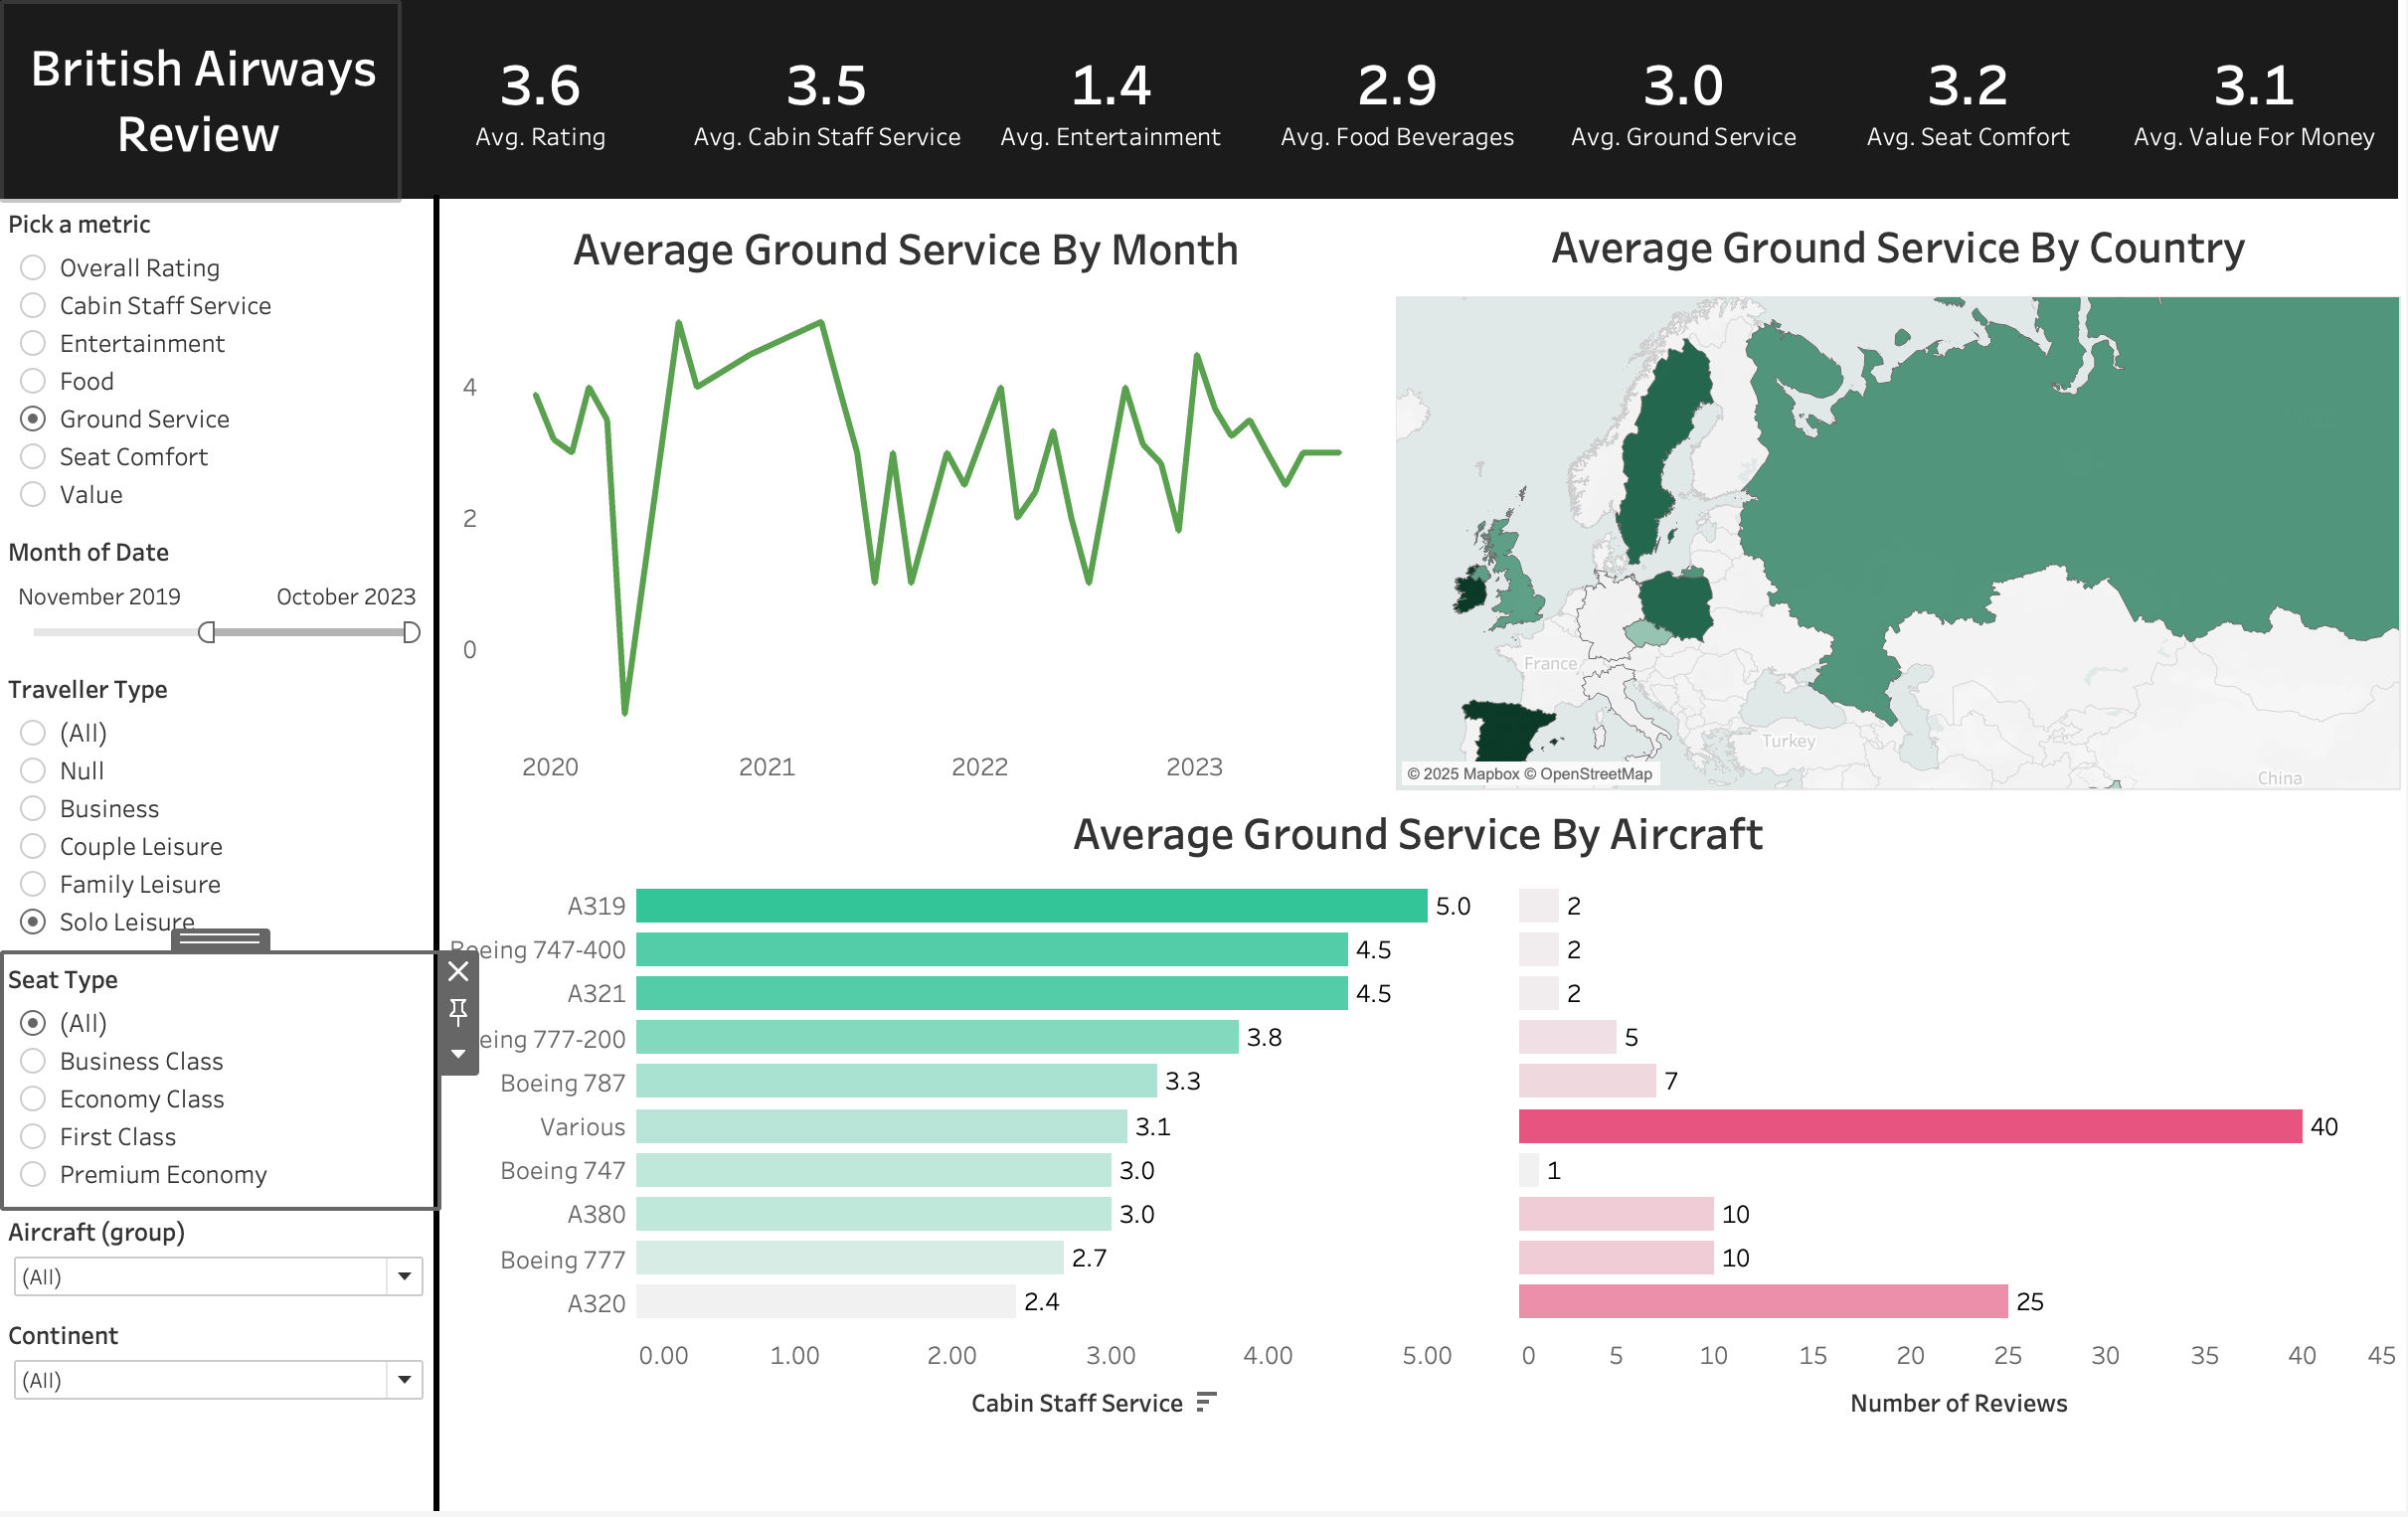

The page's visual inventory and layout, read from the dashboard file:
{"tool":"tableau","page":{"name":"Dashboard 1","canvas":[1210,760],"ordinal":0},"visuals":[{"type":"blank","box":[0,0,1210,760]},{"type":"text","box":[0,0,200,100]},{"type":"worksheet","title":"Summary","mark":"Automatic","box":[200,0,1006,100]},{"type":"blank","box":[218,98,3,662]},{"type":"parameter","param":"[Parameters].[Parameter 1]","box":[0,100,220,165]},{"type":"worksheet","title":"Month","mark":"Automatic","rows":["Calculation_6134324971029123072"],"cols":["date"],"box":[210,103,478,294]},{"type":"worksheet","title":"Map","mark":"Automatic","box":[702,105,506,293]},{"type":"filter","title":"Map","param":"[federated.1n9n42414x436w0zvhl1x03048p7].[tmn:date:qk]","box":[0,265,220,69]},{"type":"filter","title":"Map","param":"[federated.1n9n42414x436w0zvhl1x03048p7].[none:traveller_type:nk]","box":[0,334,220,146]},{"type":"worksheet","title":"Aircraft","mark":"Automatic","cols":["Calculation_6134324971029123072","ba_reviews.csv_1D738989C7464307BE821A42023B778A"],"box":[220,400,987,321]},{"type":"filter","title":"Map","param":"[federated.1n9n42414x436w0zvhl1x03048p7].[none:seat_type:nk]","box":[0,480,220,127]},{"type":"filter","title":"Map","param":"[federated.1n9n42414x436w0zvhl1x03048p7].[Aircraft (group)]","box":[0,607,220,52]},{"type":"filter","title":"Map","param":"[federated.1n9n42414x436w0zvhl1x03048p7].[none:Continent:nk]","box":[0,659,220,52]}]}

Visuals, with their boxes in screenshot pixels (x1, y1, x2, y2), scaled from the page's 1210x760 canvas onto the 2408x1517 screenshot:
blank: <box>0,0,2407,1516</box>
text: <box>0,0,398,200</box>
"Summary" worksheet: <box>398,0,2400,200</box>
blank: <box>433,196,439,1516</box>
parameter: <box>0,200,437,529</box>
"Month" worksheet: <box>418,206,1369,792</box>
"Map" worksheet: <box>1397,210,2404,794</box>
"Map" filter: <box>0,529,437,667</box>
"Map" filter: <box>0,667,437,958</box>
"Aircraft" worksheet: <box>437,798,2402,1439</box>
"Map" filter: <box>0,958,437,1212</box>
"Map" filter: <box>0,1212,437,1315</box>
"Map" filter: <box>0,1315,437,1420</box>
